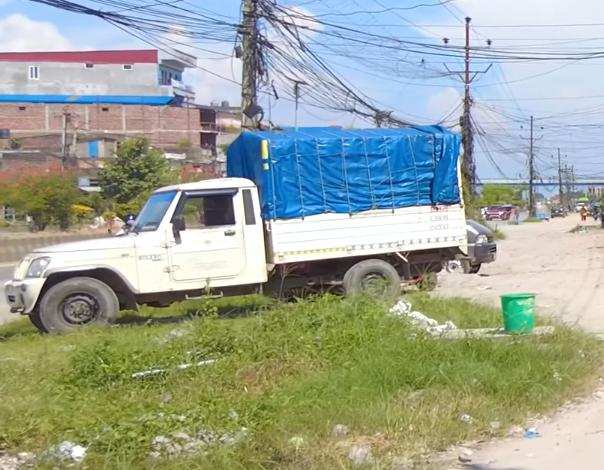car: (480, 199, 513, 226)
transport_vehicle: (6, 121, 475, 339)
